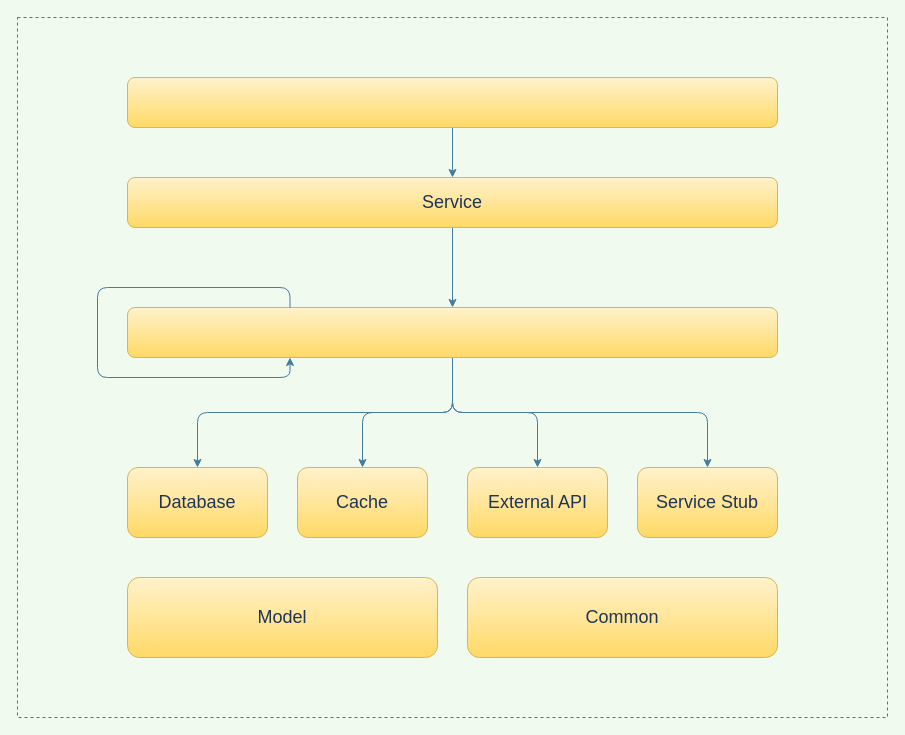
The diagram is 905 pixels wide and 735 high, and some of its shapes have lost their labels. The centre of each missing label's shape, as x and y in pixels:
Repository: the point at 452,332
Resource: the point at 452,102
